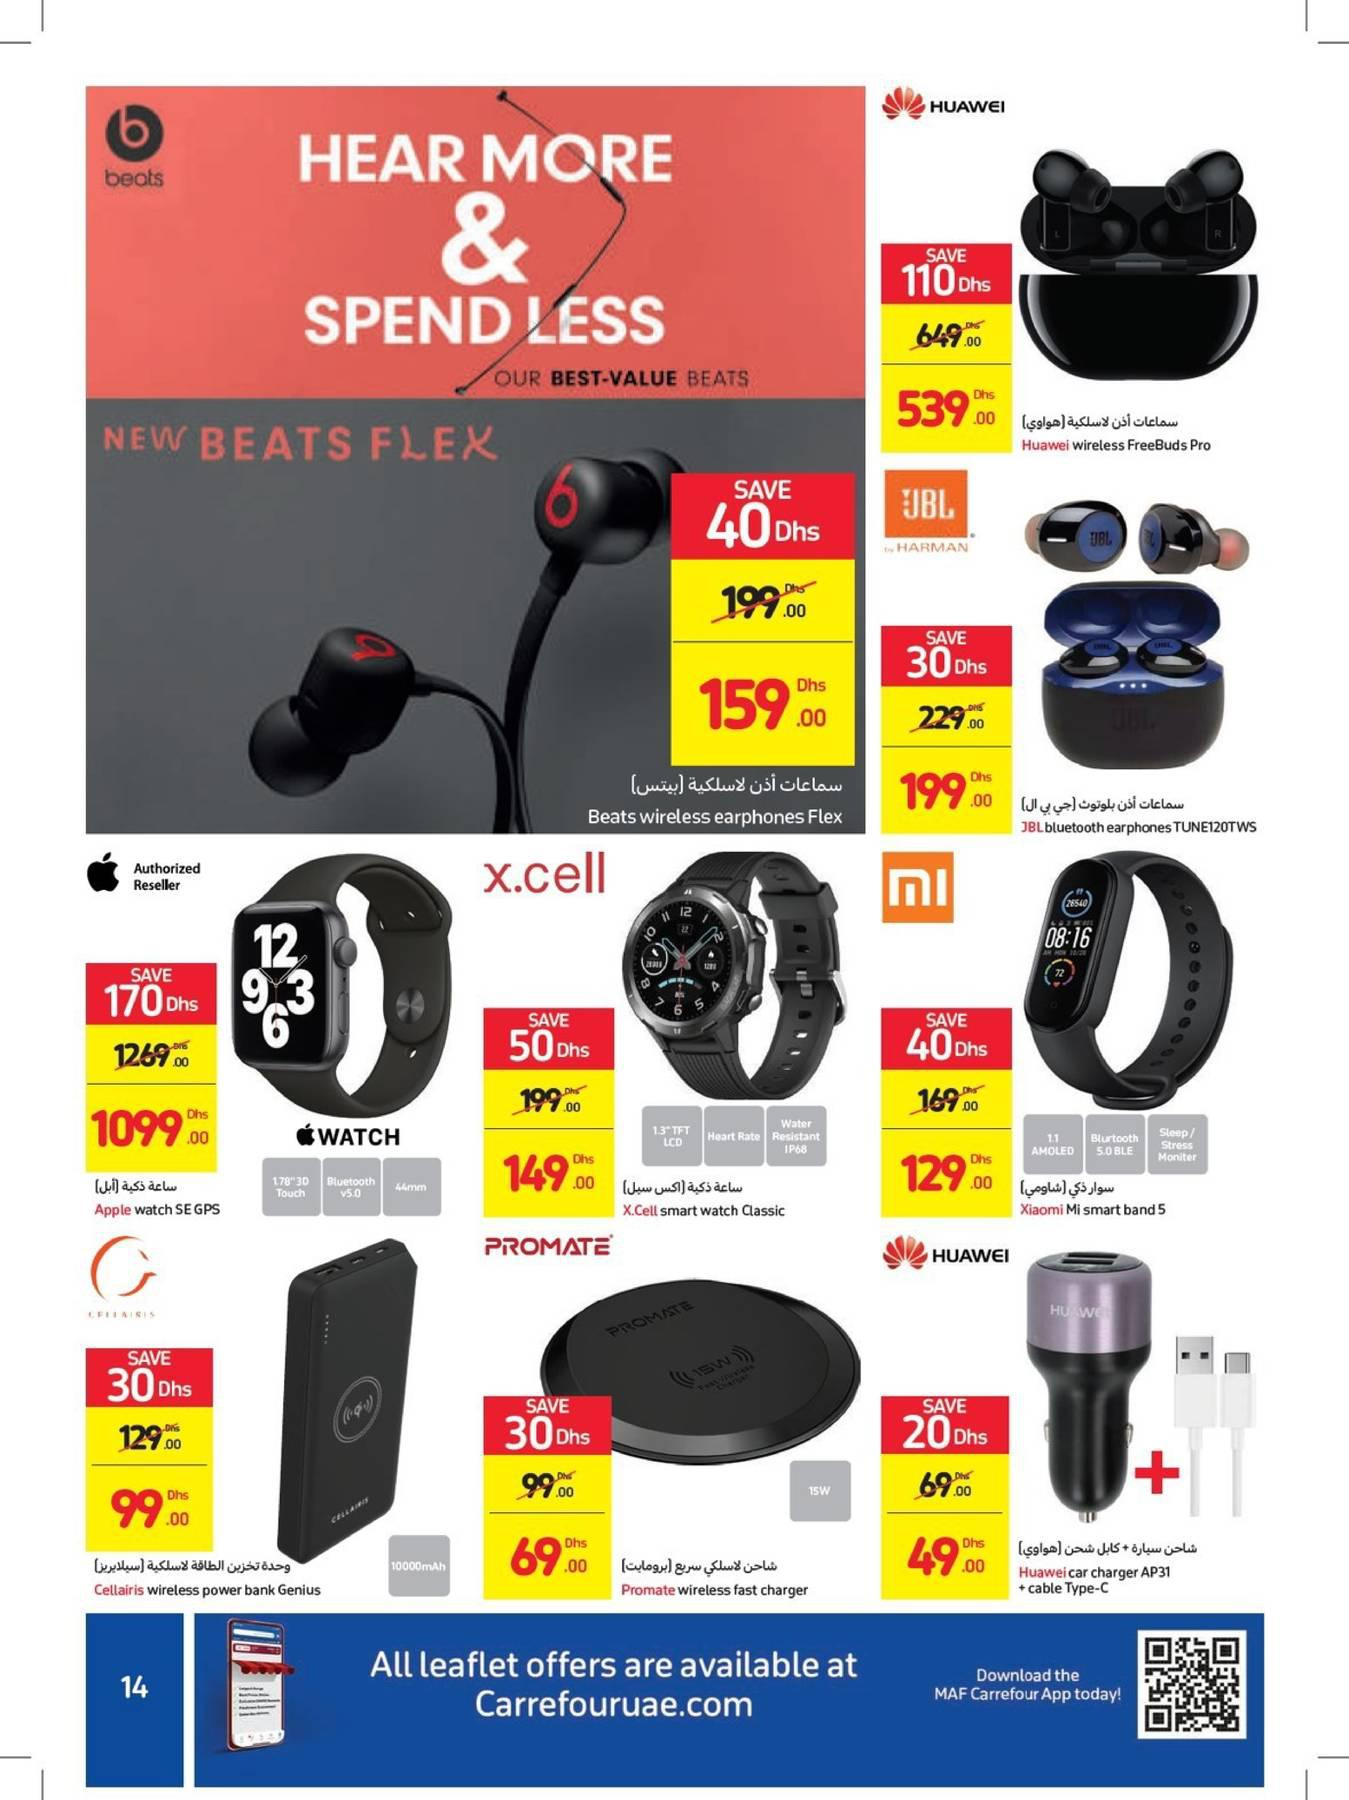text: (581, 764, 859, 833), (1015, 784, 1267, 840), (1013, 1531, 1212, 1602), (88, 1553, 327, 1606), (1015, 405, 1221, 465), (616, 1551, 822, 1604), (614, 1165, 794, 1226), (1015, 1172, 1179, 1227), (91, 1172, 225, 1225)
